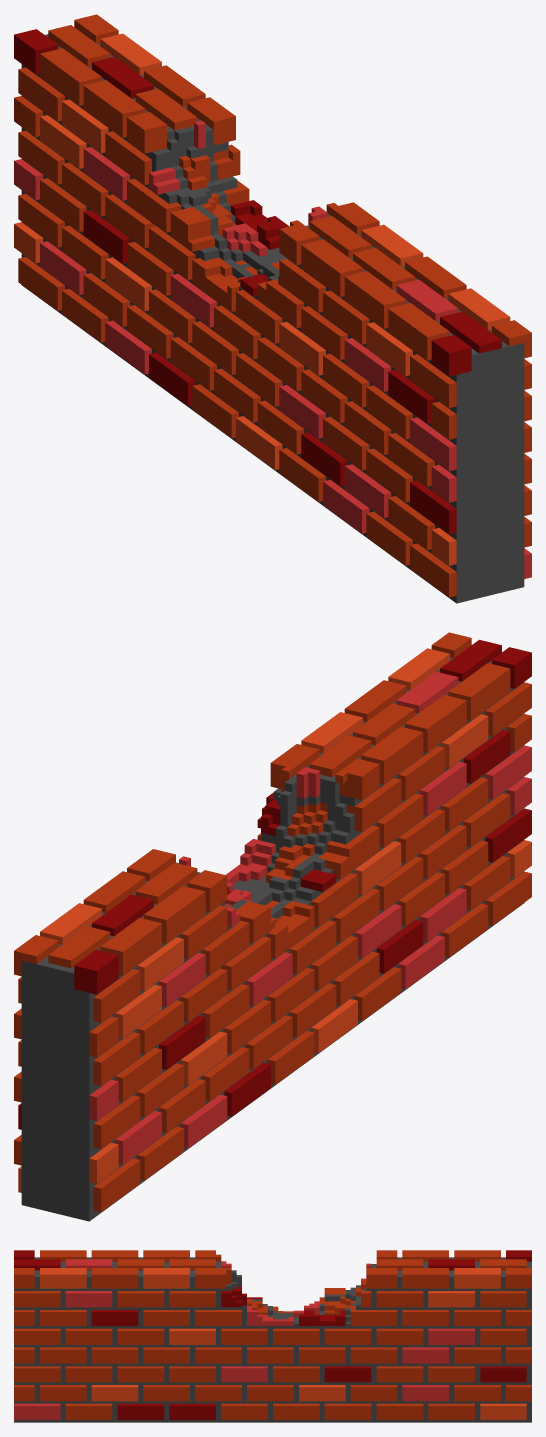
File: Fences-2-Brick Wall Hole.obj
3 views of the same model, one above another, from view 1: azimuth 30°, elevation 25°; view 2: azimuth 150°, elevation 25°; view 3: azimuth 270°, elevation 25° (orthographic). The views are drawn at different scales.
Visible parts, largest first — view 1: Brick Wall Hole; view 2: Brick Wall Hole; view 3: Brick Wall Hole.
Part boxes in pixels (x1=…): Brick Wall Hole: x1=14, y1=14, x2=531, y2=603; Brick Wall Hole: x1=14, y1=632, x2=531, y2=1221; Brick Wall Hole: x1=14, y1=1250, x2=531, y2=1422.
Bounding box in the file's own units: 1.1 × 3.2 × 10.
Materials: 1 (1 with a texture image).
